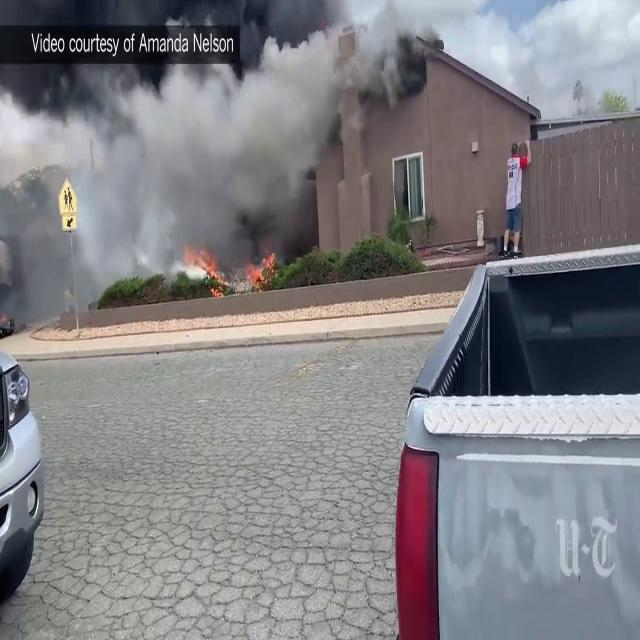Fire: (178, 247, 280, 293)
Smoke: (0, 0, 404, 270)
